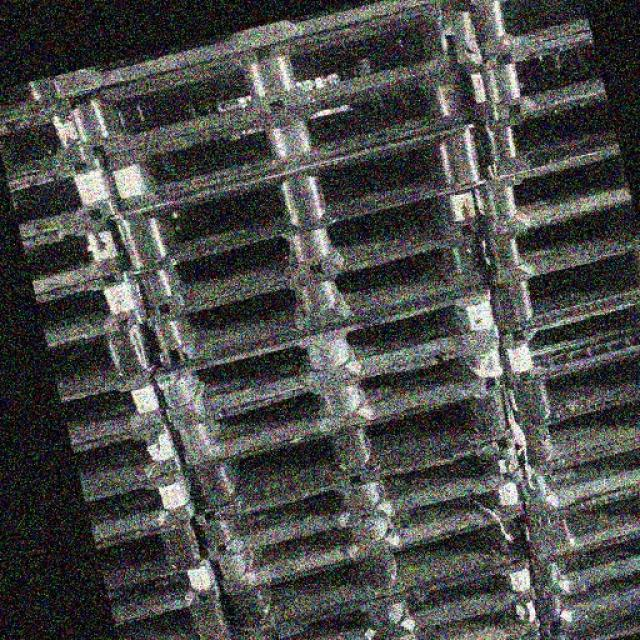igps: (105, 115, 490, 284), (98, 57, 476, 223), (81, 0, 459, 164), (124, 170, 502, 331), (141, 226, 497, 378), (149, 280, 505, 427), (169, 329, 511, 474), (181, 372, 517, 518), (190, 430, 529, 569), (47, 0, 445, 110), (212, 471, 533, 603), (220, 509, 537, 636), (226, 551, 544, 640), (473, 130, 639, 246), (456, 26, 619, 136), (469, 192, 639, 294), (469, 82, 624, 190), (480, 239, 639, 340), (293, 581, 546, 640), (494, 290, 639, 392), (497, 343, 640, 437), (0, 143, 124, 247), (505, 382, 639, 476), (512, 476, 639, 570), (29, 258, 155, 350), (78, 458, 201, 550), (55, 359, 173, 454), (16, 208, 135, 301), (511, 434, 640, 519), (66, 416, 189, 504), (90, 505, 209, 595), (99, 549, 227, 630), (0, 88, 100, 190), (42, 319, 162, 402), (524, 524, 639, 605), (530, 564, 640, 640), (465, 0, 594, 64), (109, 591, 239, 640), (0, 63, 69, 127)
